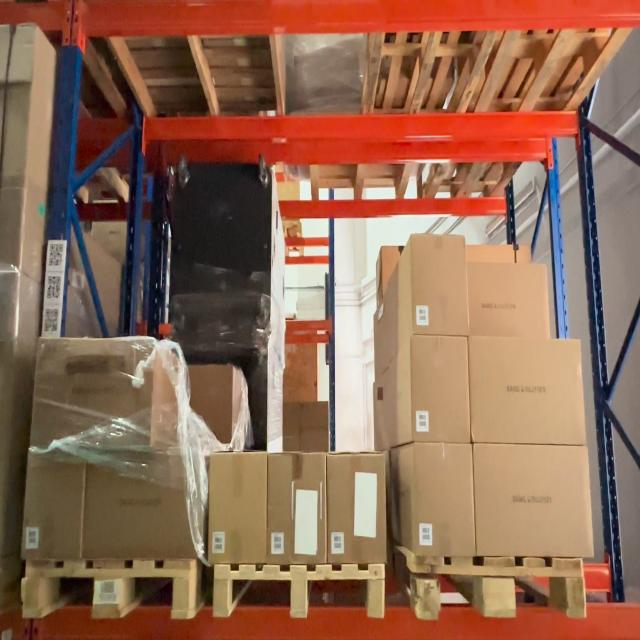box: (473, 444, 595, 554), (83, 451, 204, 559), (470, 336, 587, 446), (31, 345, 154, 447), (22, 448, 85, 556), (415, 445, 473, 558), (211, 453, 268, 564), (414, 336, 472, 445), (328, 454, 385, 562), (269, 454, 327, 559), (413, 236, 468, 335)
